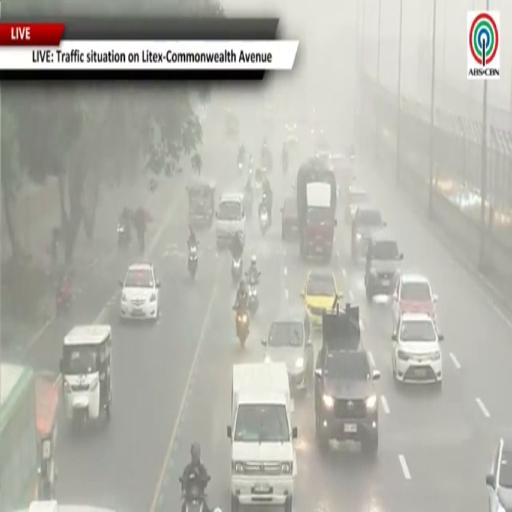bus: (0, 363, 38, 511)
car: (315, 306, 380, 456), (262, 310, 314, 391), (392, 313, 443, 385), (365, 231, 403, 300), (392, 274, 437, 330), (120, 263, 160, 319), (301, 270, 340, 326), (351, 205, 386, 261), (486, 438, 511, 511), (216, 194, 245, 249), (330, 153, 355, 200), (345, 186, 369, 223), (281, 197, 299, 241), (225, 109, 239, 137), (285, 123, 297, 146)
motorcycle: (180, 473, 209, 511), (234, 308, 249, 346), (56, 288, 71, 315), (188, 243, 198, 279), (117, 222, 130, 249), (248, 280, 258, 314), (231, 256, 242, 282), (259, 206, 269, 234), (245, 189, 253, 218), (137, 230, 145, 252), (238, 162, 243, 173), (350, 153, 355, 163)
truck: (228, 362, 297, 511), (296, 158, 337, 262)
